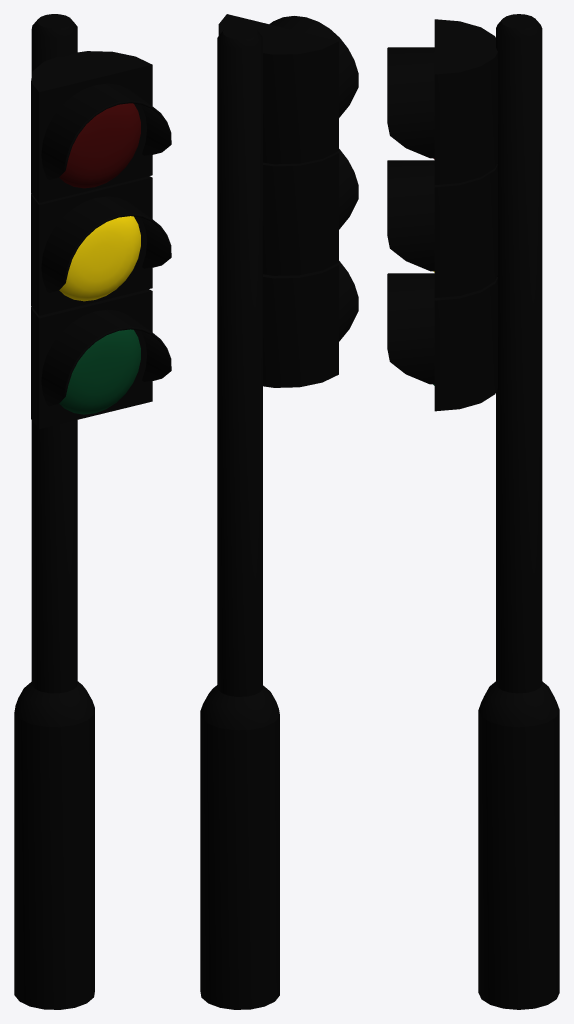
File: traffic-light-yellow.glb
3 renders of one model, left to right at view 1: azimuth 30°, elevation 25°; view 2: azimuth 150°, elevation 25°; view 3: azimuth 270°, elevation 25°, orthographic.
Parts seen in each view (by area): view 1: ampel, ampel.2, ampel.1, ampel.3; view 2: ampel; view 3: ampel.
Boxes of the visible parts, x1,y1,x2,y2 form: ampel: (14, 14, 171, 1009); ampel.2: (59, 216, 140, 301); ampel.1: (59, 103, 140, 188); ampel.3: (59, 329, 140, 414); ampel: (200, 14, 358, 1009); ampel: (387, 14, 559, 1009).
Bounding box in the file's own units: 0.7322 × 5.99 × 0.9644.
